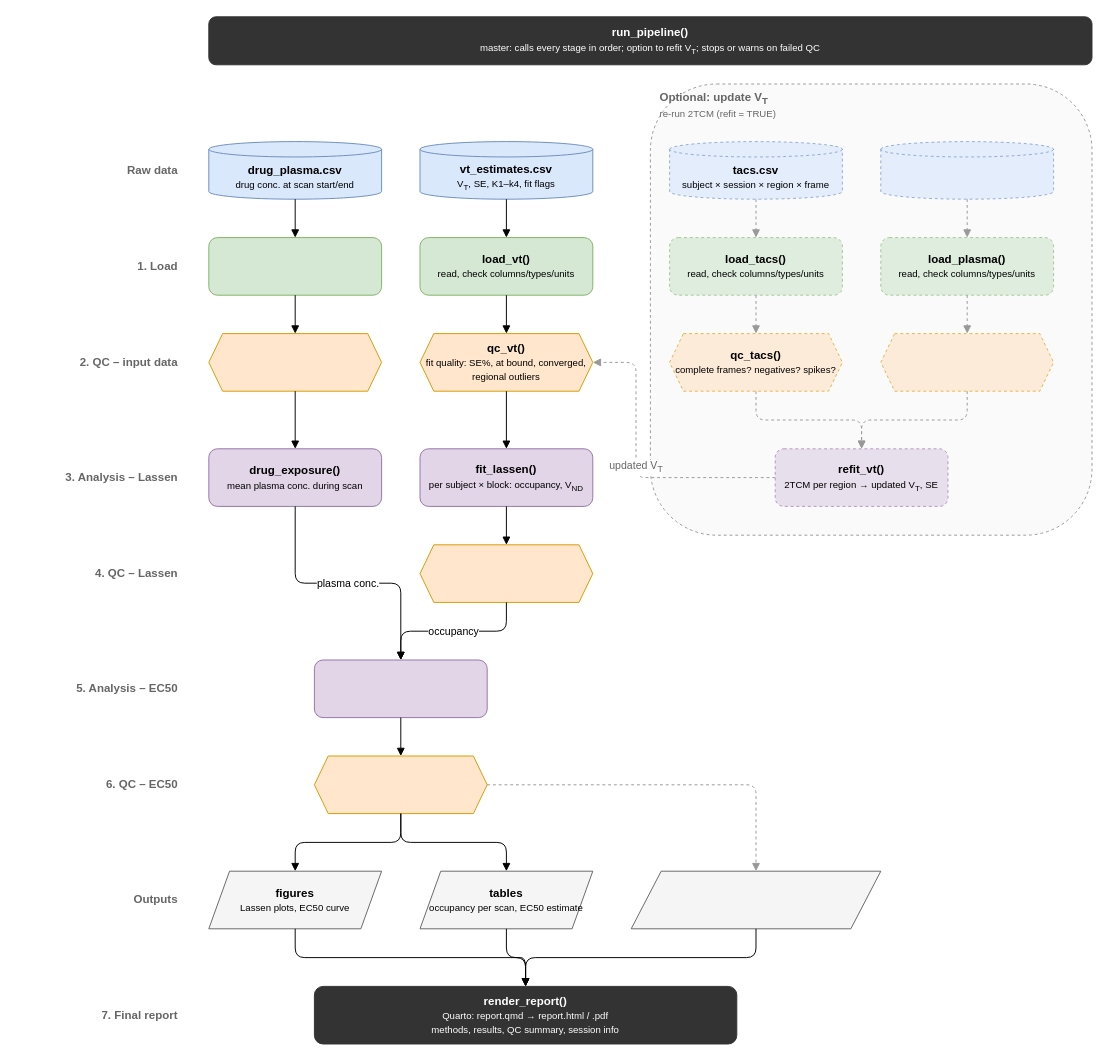
Some shapes in this 1109 by 1061 pixel diagram are drawn without their labels. The centre of each missing label's shape, as x and y in pixels:
fit_ec50() occupancy vs plasma conc. (Emax): point (400, 688)
load_drug() read, check columns/types/units: point (295, 266)
plasma_input.csv metabolite-corrected parent: point (967, 170)
QC report collects flags from every orange qc_*() step, incl. V T fit quality: point (755, 899)
qc_drug() start vs end plausible? baseline = 0?: point (295, 362)
qc_ec50() residuals? CI? influential points?: point (400, 784)
qc_lassen() R²? V ND plausible? weighted vs unweighted?: point (506, 573)
qc_plasma() smooth tail? outlier samples?: point (967, 362)
